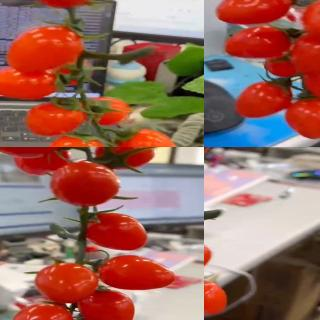tomato: (4, 24, 84, 76), (49, 160, 121, 208), (22, 99, 91, 140), (95, 255, 177, 289), (34, 263, 98, 305), (0, 62, 64, 102), (86, 211, 150, 251), (224, 26, 294, 61), (234, 82, 294, 120), (216, 0, 294, 27), (80, 289, 136, 320), (13, 150, 76, 177), (80, 97, 133, 128), (285, 96, 320, 140), (93, 147, 159, 170), (290, 31, 320, 75), (115, 128, 182, 147), (11, 304, 75, 320), (47, 132, 110, 147), (204, 278, 228, 316), (301, 0, 320, 42), (304, 61, 320, 102)
